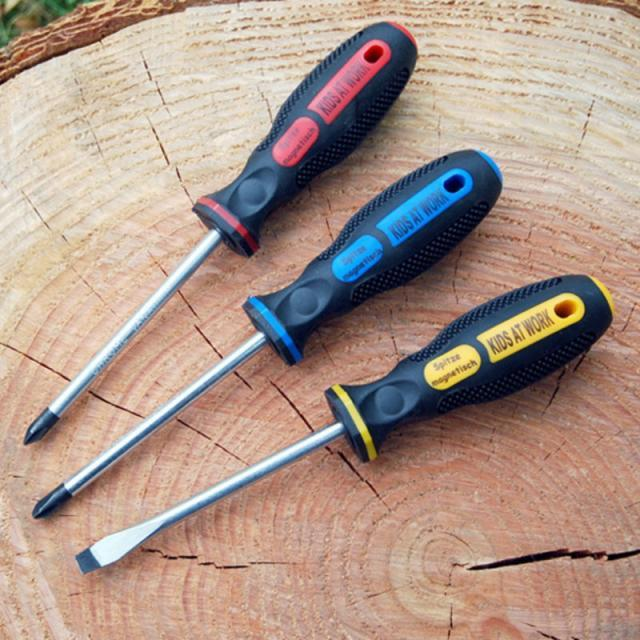screwdriver: (29, 148, 508, 524), (18, 18, 421, 450), (73, 274, 614, 580)
